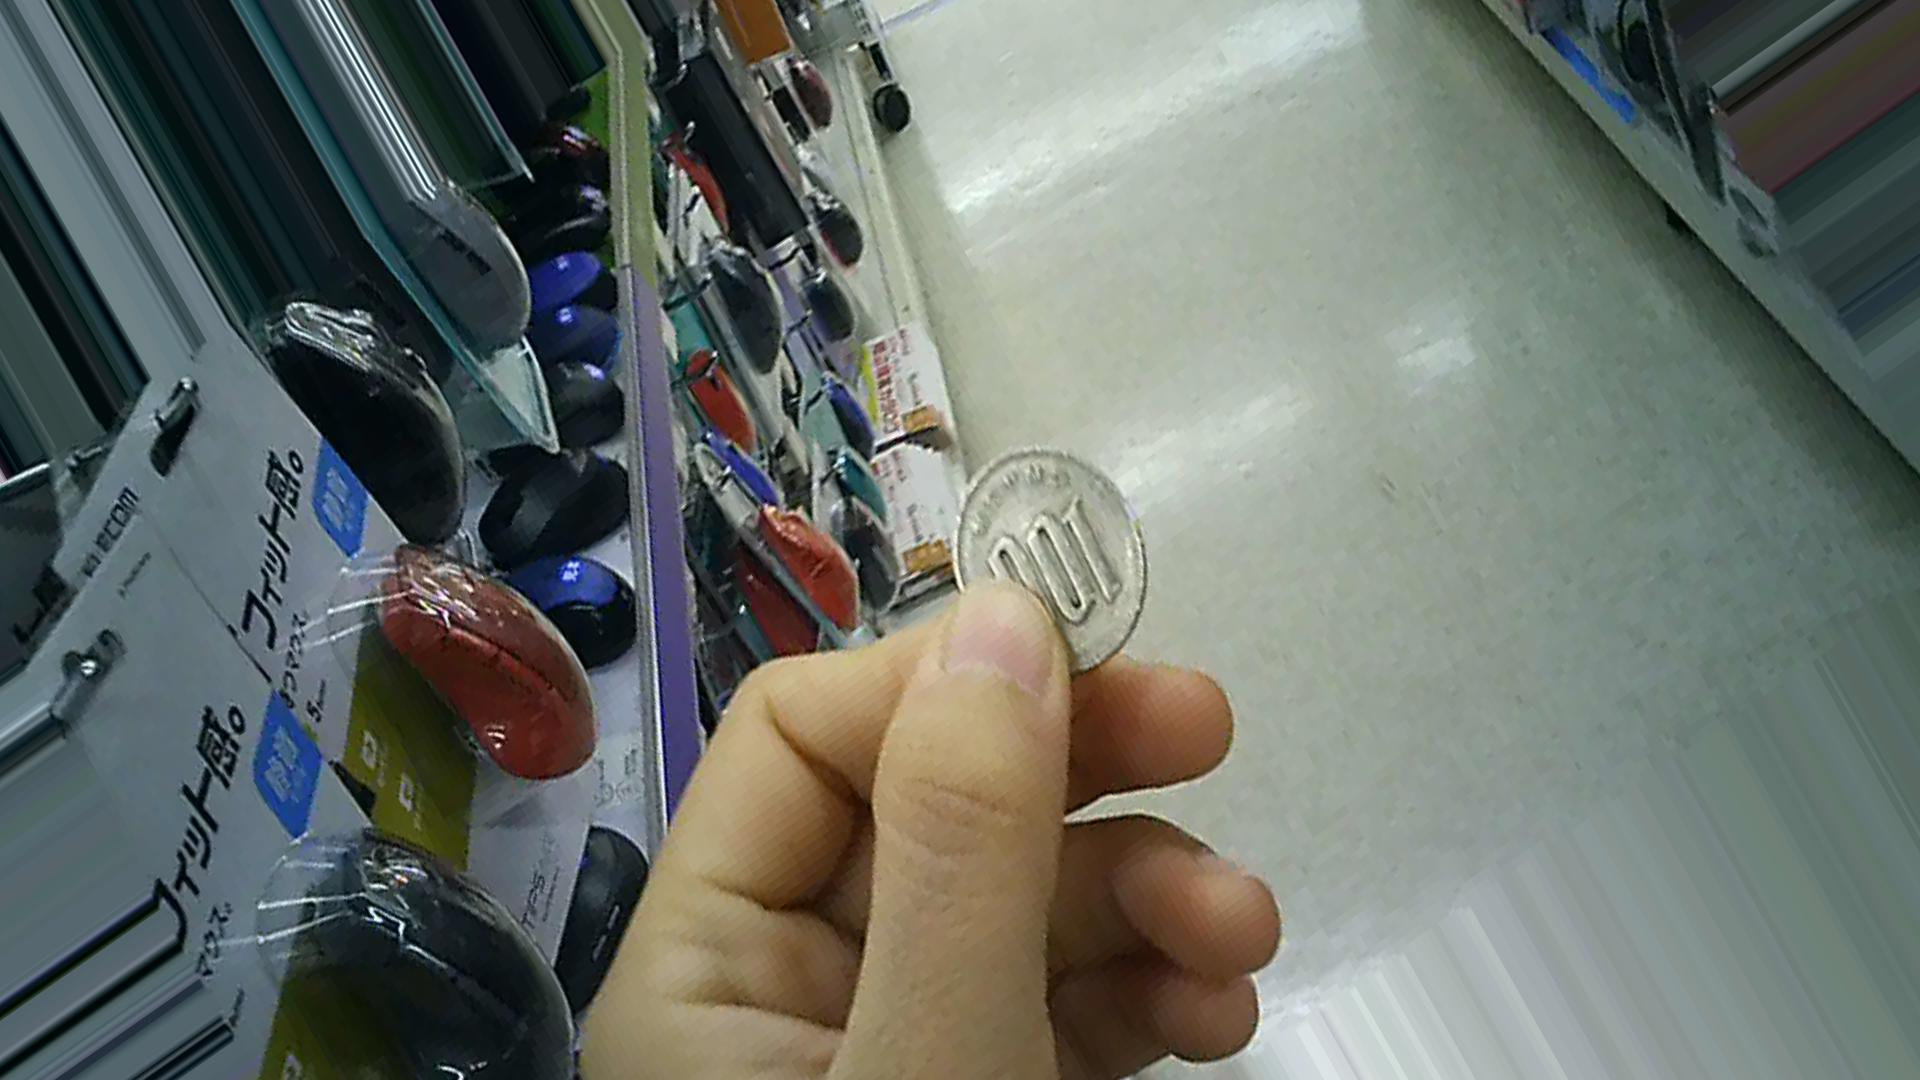100 Yen: (942, 447, 1174, 684)
